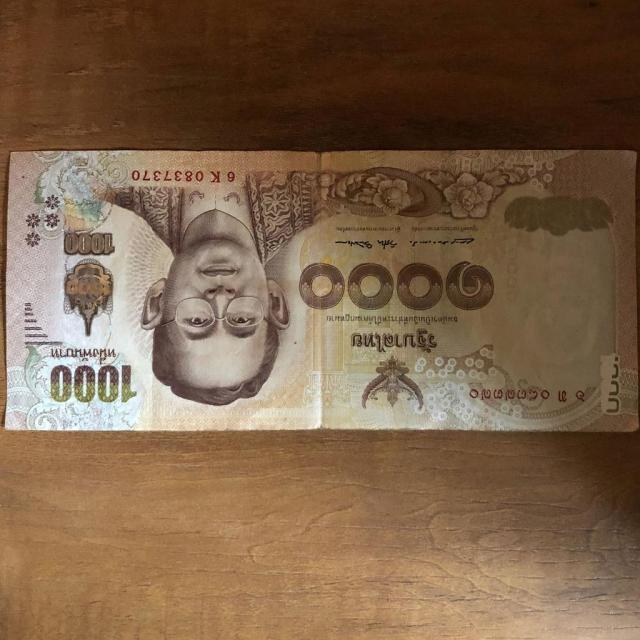THAI1000: (6, 150, 638, 431)
